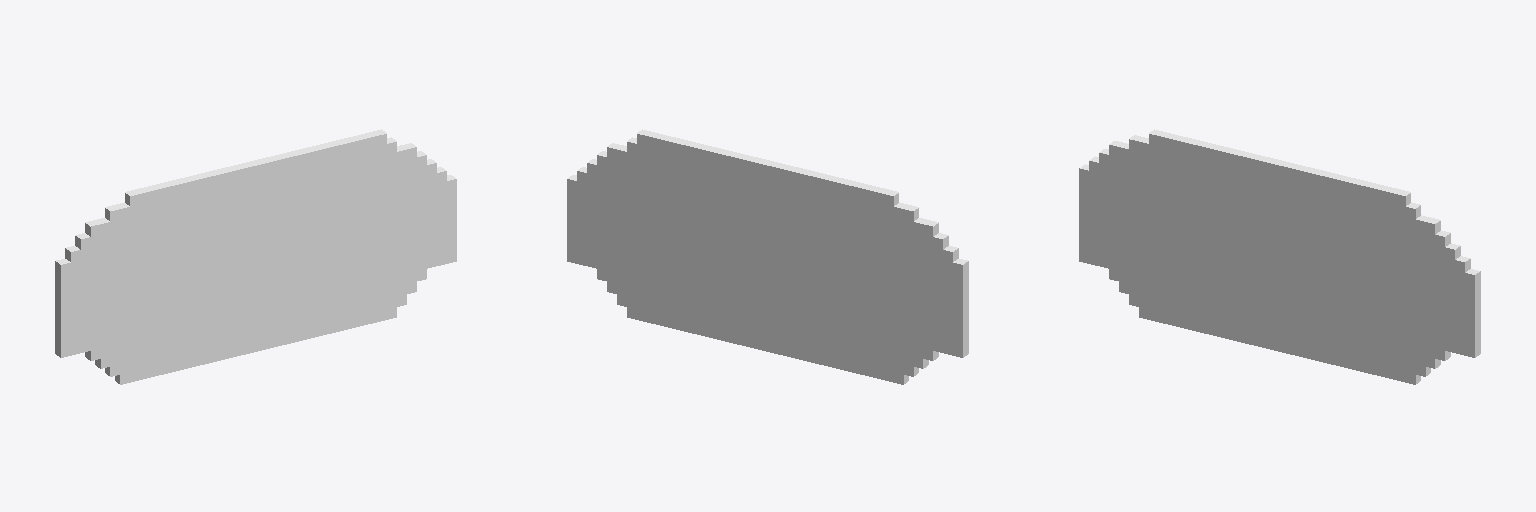
File: kumo.obj
3 views of the same model, side by side, from view 1: azimuth 30°, elevation 25°; view 2: azimuth 150°, elevation 25°; view 3: azimuth 330°, elevation 25° (orthographic).
Visible parts, largest first — view 1: object 1; view 2: object 1; view 3: object 1.
Boxes of the visible parts, <box> form: object 1: <box>55,129,456,384</box>; object 1: <box>567,129,968,384</box>; object 1: <box>1079,129,1480,384</box>.
Size of the model in its own units: 4 by 1.8 by 0.1.